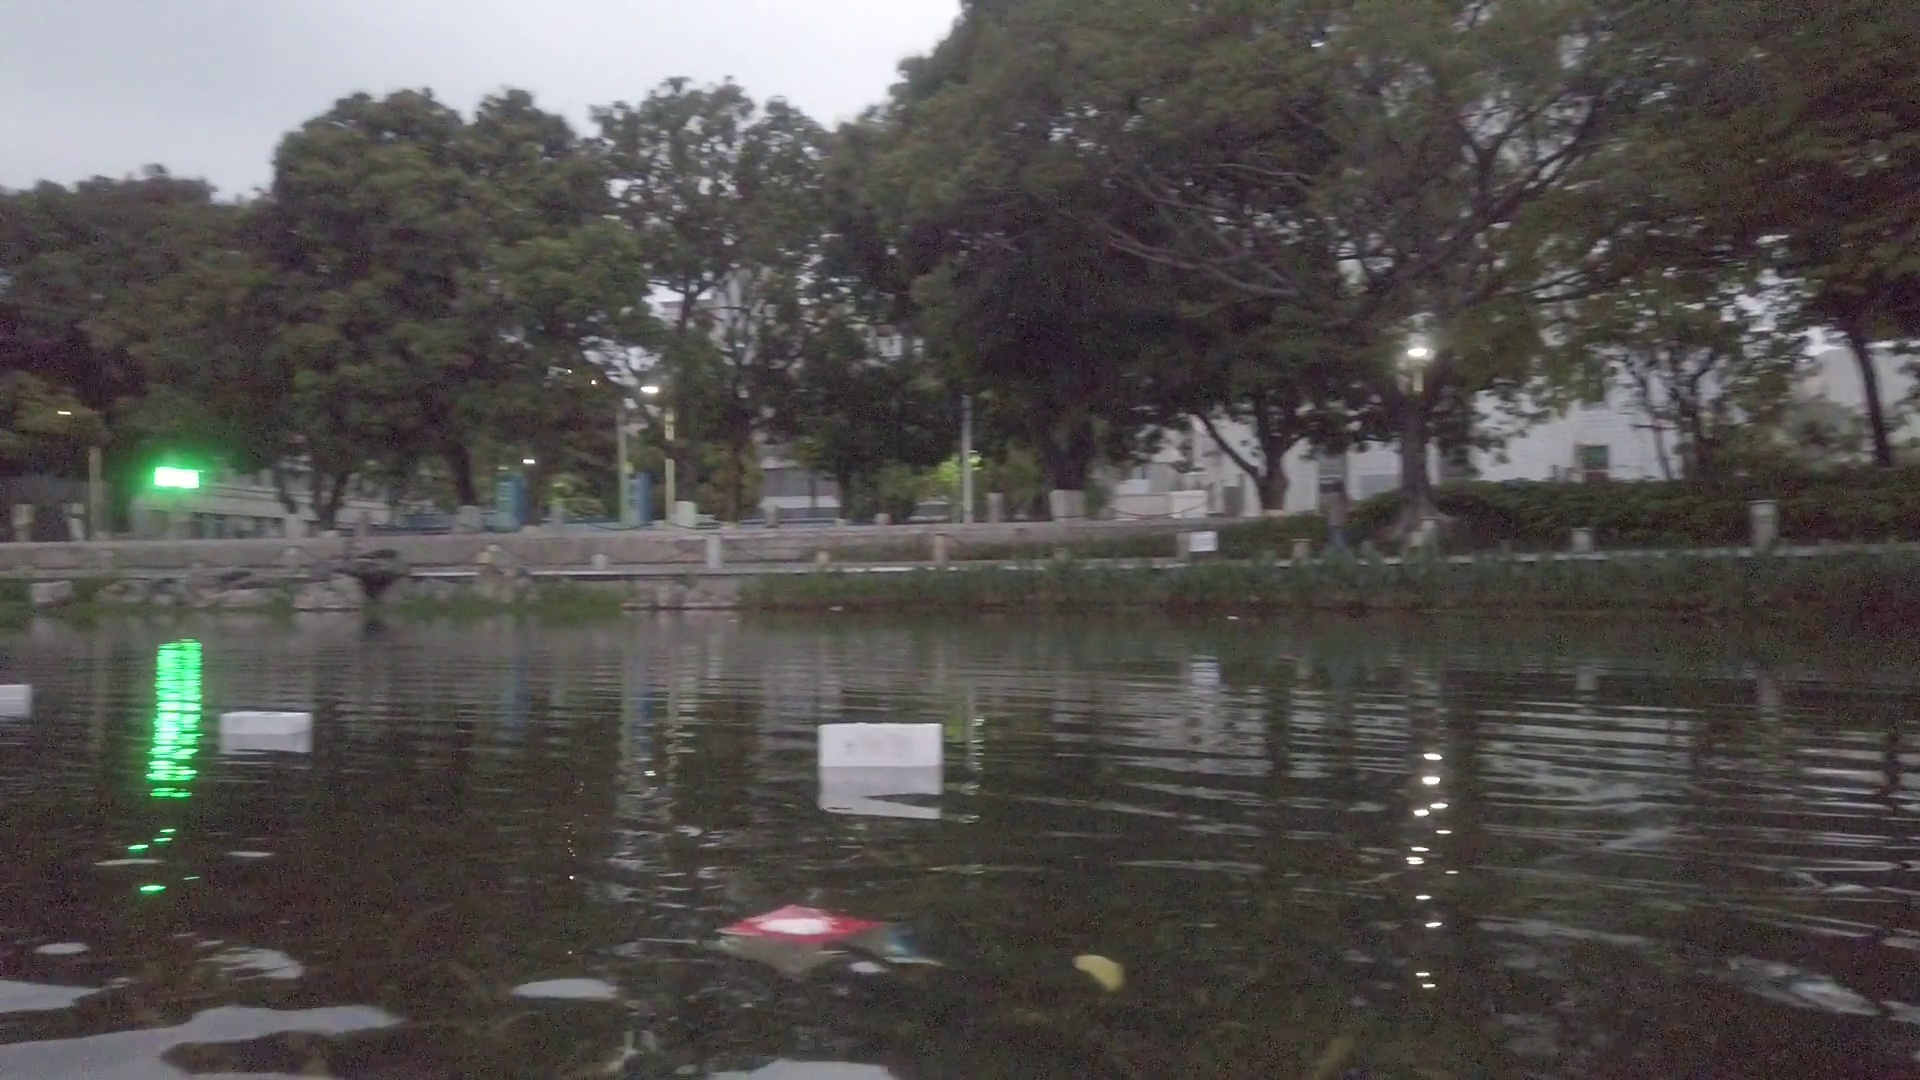carton: (819, 720, 945, 769)
paper: (704, 897, 862, 977)
